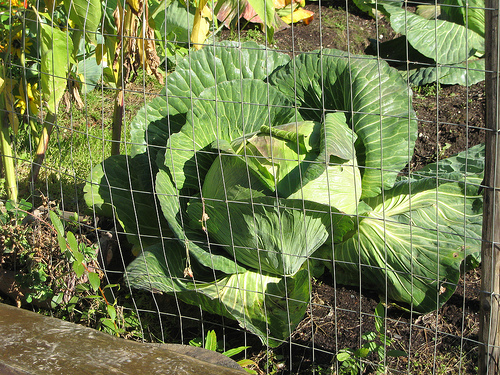cabbage: (81, 40, 489, 350)
